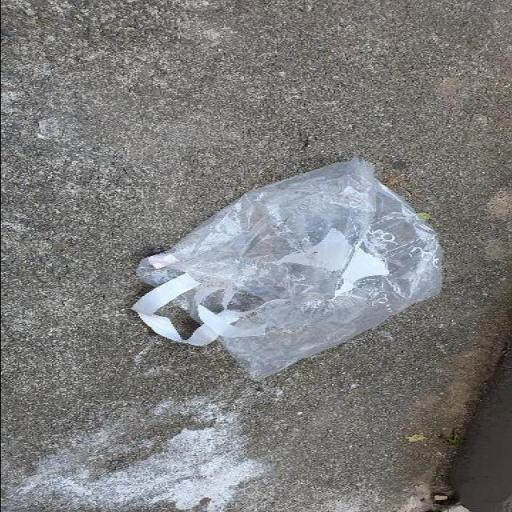plastic-bag: (128, 154, 448, 384)
